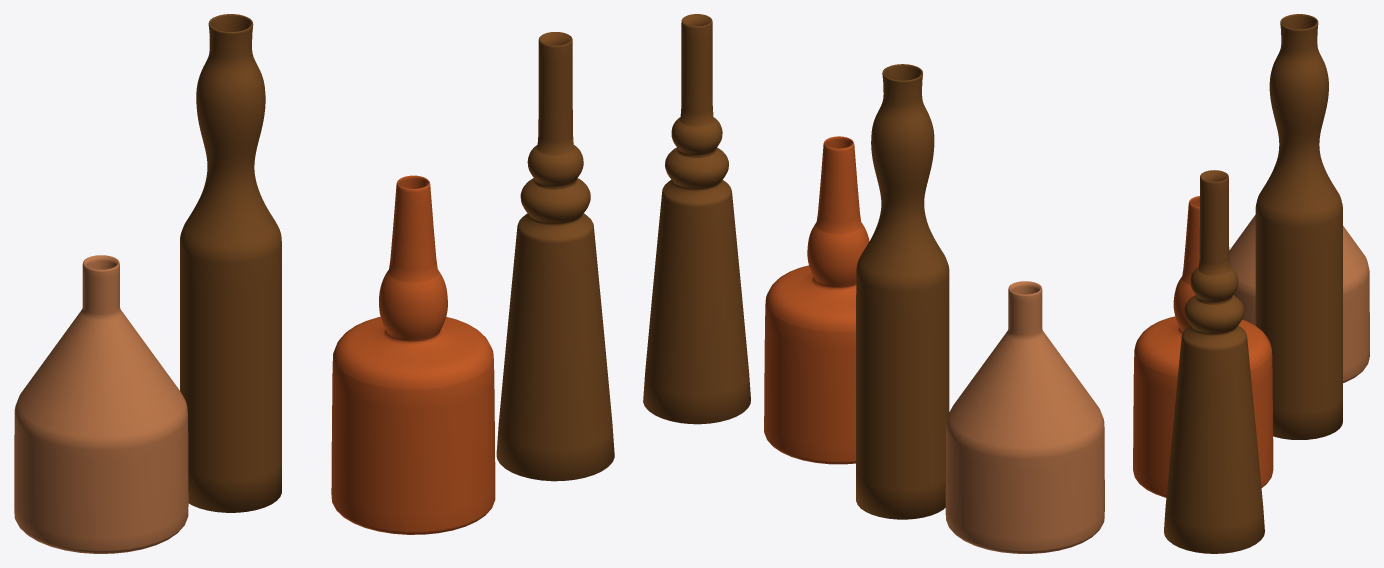
Rendered from jarrones1.fbx.
The picture shows the model from 3 angles, left to right: view 1: azimuth 30°, elevation 25°; view 2: azimuth 150°, elevation 25°; view 3: azimuth 270°, elevation 25°; orthographic projection. The views are drawn at different scales.
Parts seen in each view (by area): view 1: Line009, Line008, Line010, Line007; view 2: Line009, Line010, Line007, Line008; view 3: Line009, Line007, Line008, Line010.
Boxes of the visible parts, x1=… form: Line009: x1=180, y1=14, x2=281, y2=512; Line008: x1=331, y1=175, x2=495, y2=534; Line010: x1=14, y1=255, x2=188, y2=553; Line007: x1=496, y1=32, x2=614, y2=481; Line009: x1=856, y1=64, x2=949, y2=519; Line010: x1=945, y1=281, x2=1104, y2=553; Line007: x1=643, y1=14, x2=750, y2=424; Line008: x1=764, y1=136, x2=869, y2=464; Line009: x1=1255, y1=14, x2=1342, y2=439; Line007: x1=1164, y1=170, x2=1264, y2=553; Line008: x1=1133, y1=196, x2=1273, y2=497; Line010: x1=1229, y1=215, x2=1369, y2=382.
Size of the model in its own units: 125 by 105 by 56.25.
